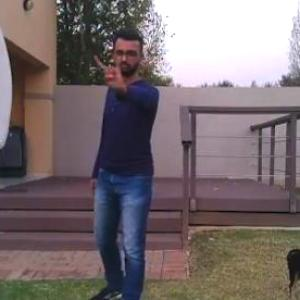takeoff-hand: (92, 50, 128, 90)
